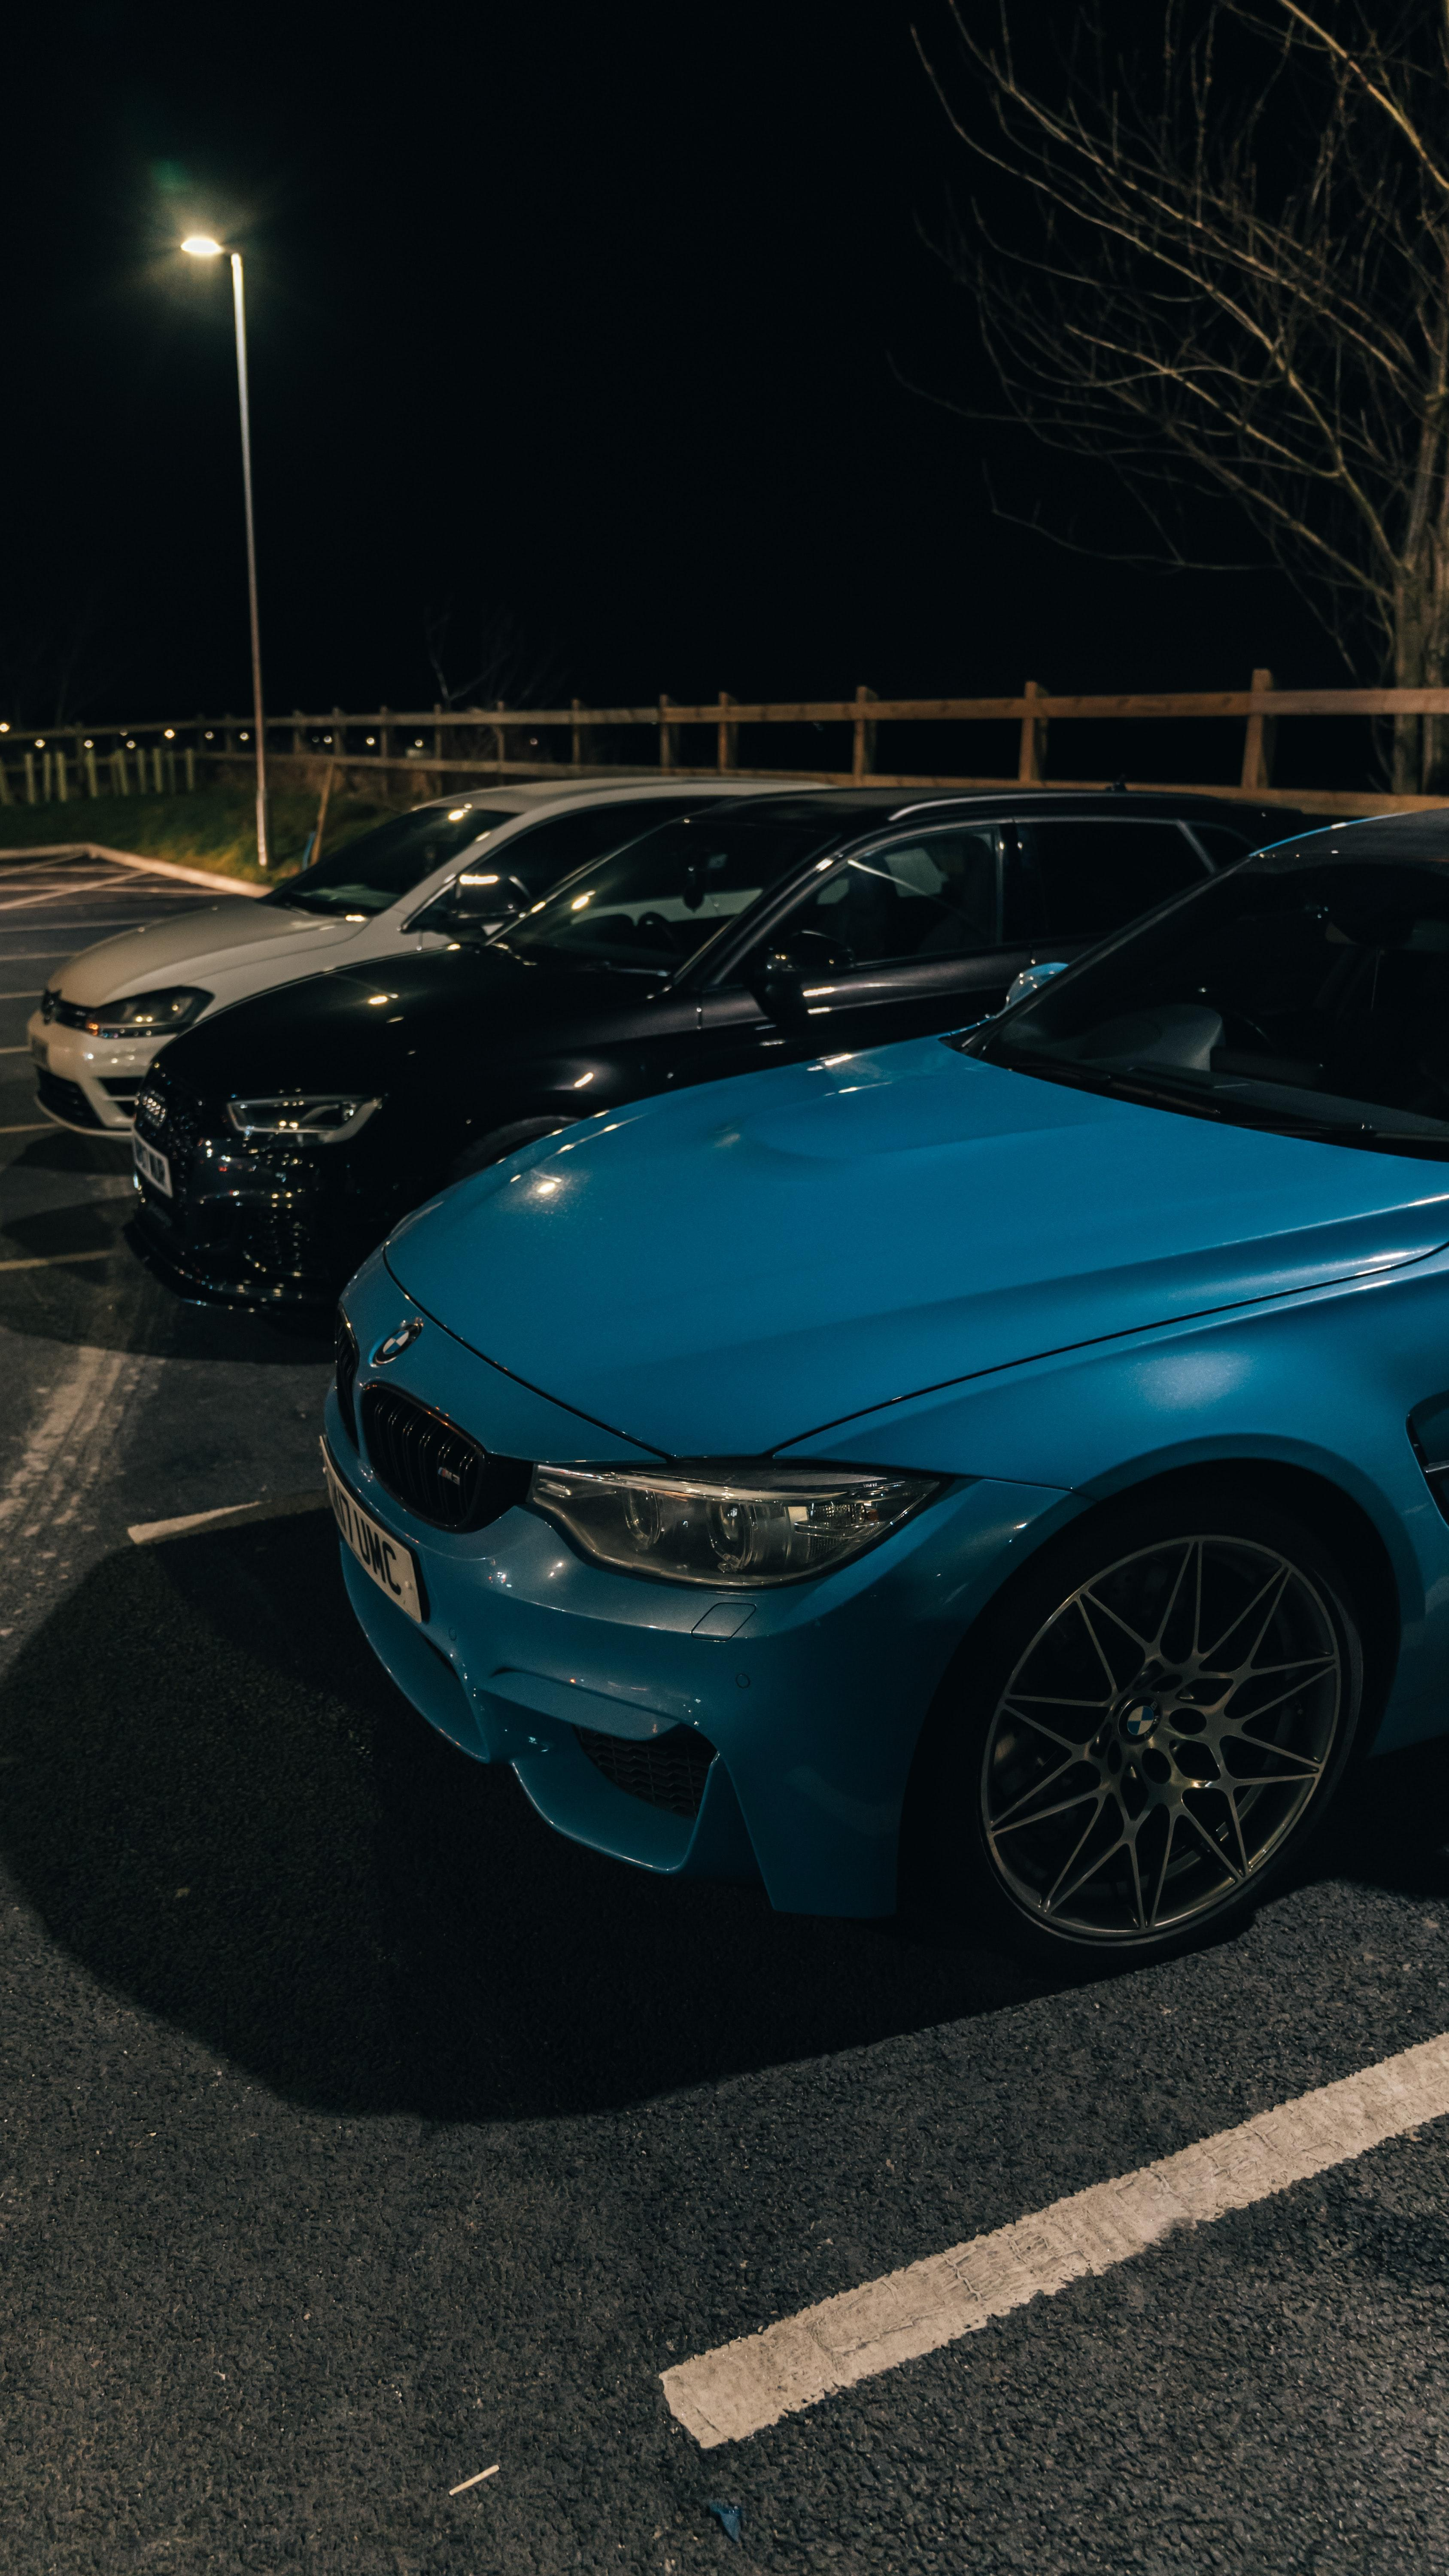Audi: (131, 1081, 175, 1143)
bmw: (357, 1306, 435, 1376)
